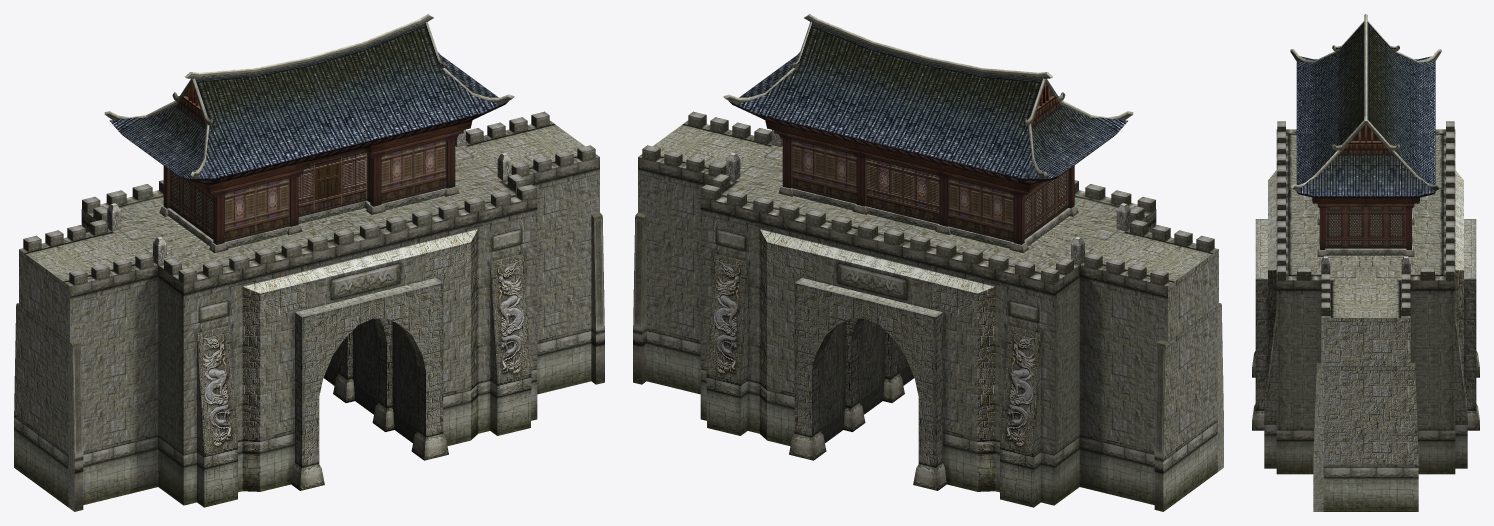
File: b1-bigdam-01.fbx
3 views of the same model, side by side, from view 1: azimuth 30°, elevation 25°; view 2: azimuth 150°, elevation 25°; view 3: azimuth 270°, elevation 25° (orthographic). The views are drawn at different scales.
Parts seen in each view (by area): view 1: b1-bigdam-01; view 2: b1-bigdam-01; view 3: b1-bigdam-01.
Boxes of the visible parts, x1=… form: b1-bigdam-01: x1=14, y1=14, x2=604, y2=511; b1-bigdam-01: x1=633, y1=14, x2=1223, y2=511; b1-bigdam-01: x1=1252, y1=14, x2=1479, y2=511.
Bounding box in the file's own units: 60 × 41.32 × 25.52.
